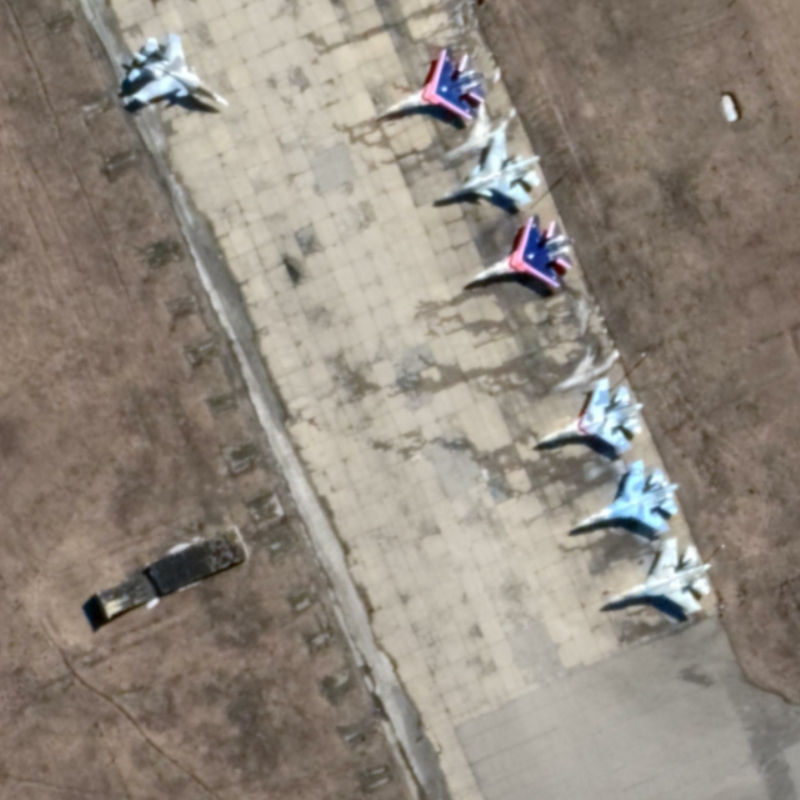A1: (601, 535, 714, 618), (535, 374, 645, 459), (573, 457, 683, 538), (467, 211, 576, 292), (380, 47, 489, 123)
A19: (437, 126, 543, 210), (125, 31, 234, 109)
